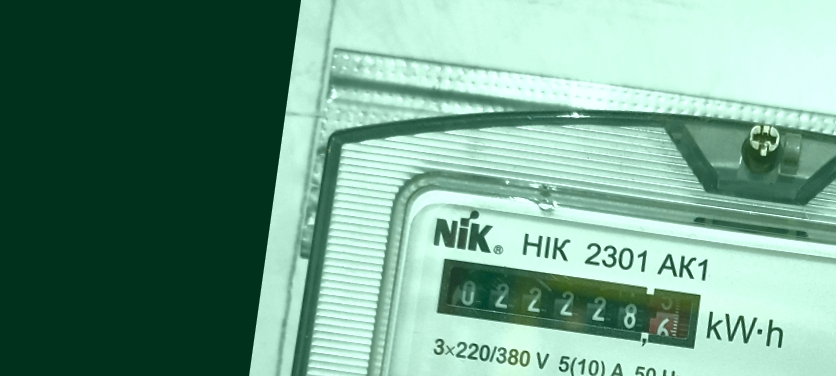0: (457, 276, 476, 307)
2: (489, 279, 512, 310), (588, 293, 609, 324), (555, 288, 576, 317), (523, 284, 543, 314)
5: (656, 290, 675, 312)
6: (653, 313, 672, 336)
8: (619, 300, 638, 330)
screen: (426, 246, 711, 358)
